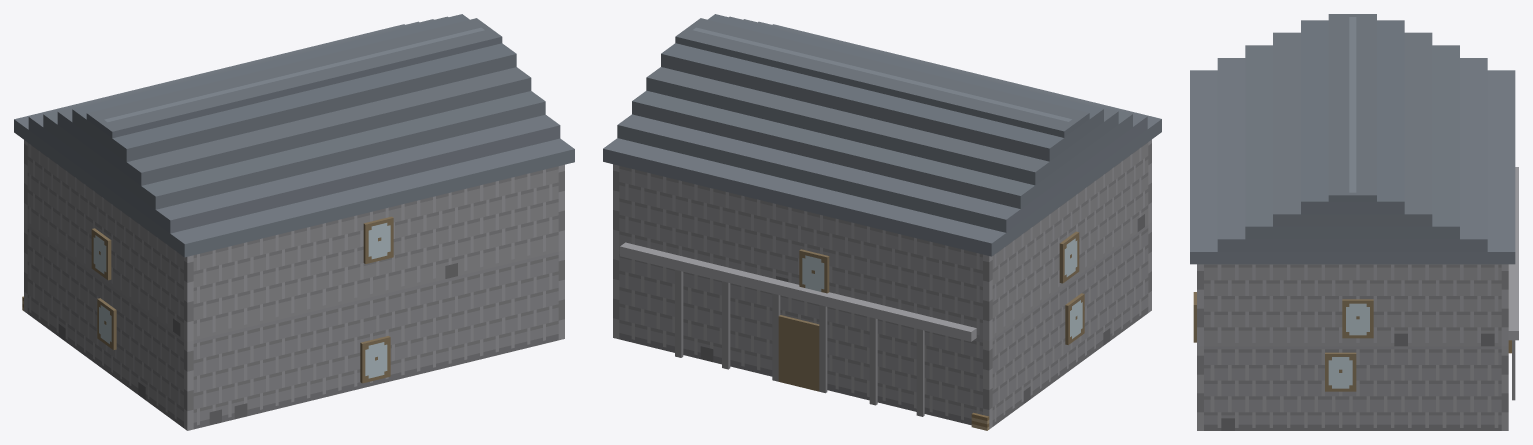
Rendered from joyeria_02.glb.
The picture shows the model from 3 angles, left to right: view 1: azimuth 30°, elevation 25°; view 2: azimuth 150°, elevation 25°; view 3: azimuth 270°, elevation 25°; orthographic projection. The views are drawn at different scales.
Parts seen in each view (by area): view 1: joyeria_02; view 2: joyeria_02; view 3: joyeria_02.
Part boxes in pixels (x1=…): joyeria_02: x1=14, y1=14, x2=574, y2=430; joyeria_02: x1=603, y1=14, x2=1161, y2=430; joyeria_02: x1=1190, y1=14, x2=1518, y2=430.
Bounding box in the file's own units: 12.4 × 7.6 × 9.5.
